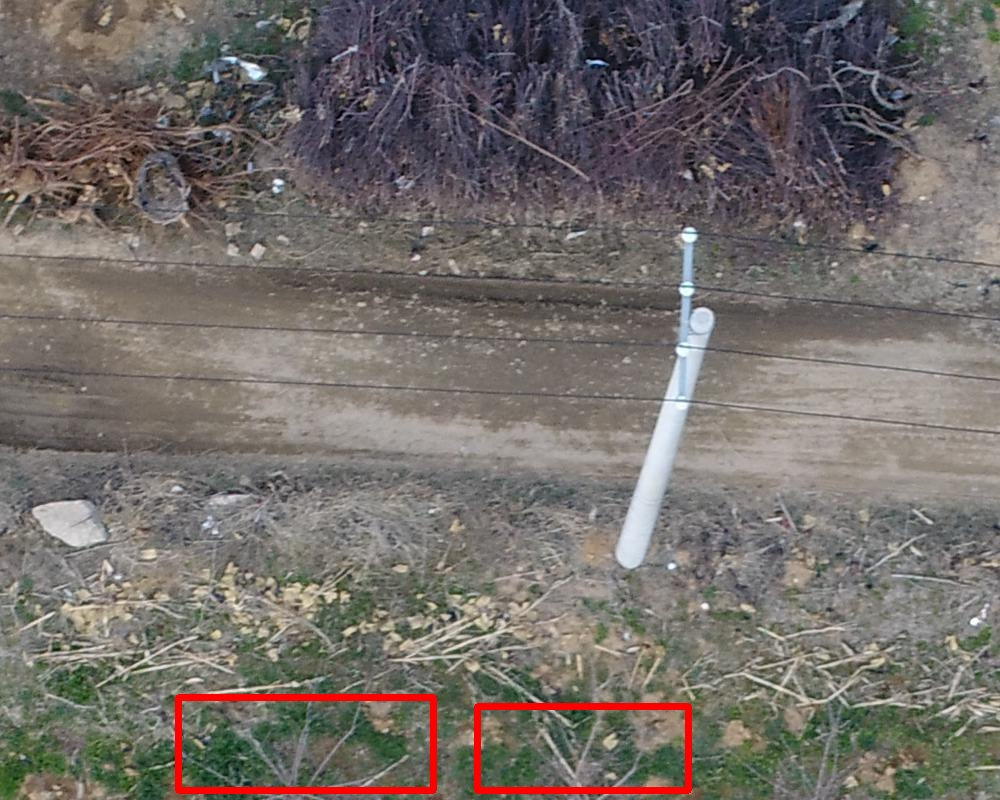apple: (178, 697, 433, 790), (477, 706, 688, 790)
